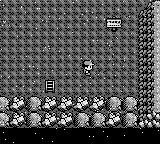leer: (106, 17, 122, 31)
main: (82, 61, 95, 75)
no-caminable: (138, 2, 160, 128), (1, 128, 160, 144), (40, 95, 105, 129), (104, 95, 137, 128), (8, 96, 27, 127), (75, 112, 105, 128), (27, 97, 40, 127), (105, 111, 123, 128), (0, 96, 9, 127)
puerta: (44, 80, 56, 92)
